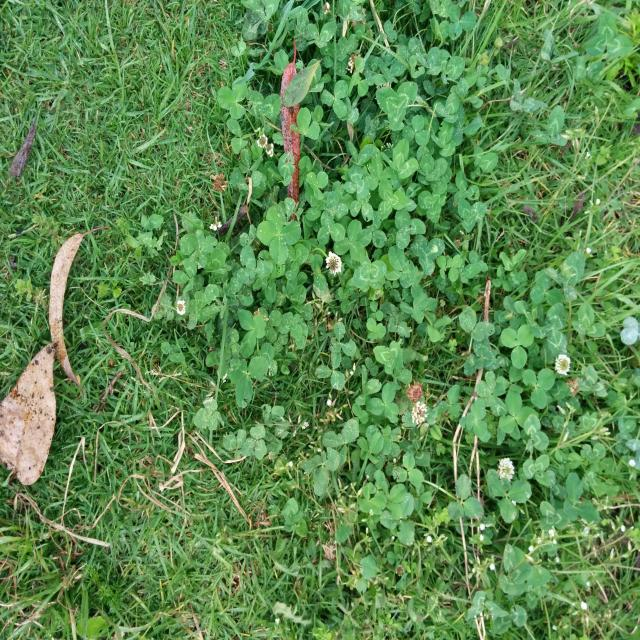Four Leaf Clover: (256, 206, 301, 265)
